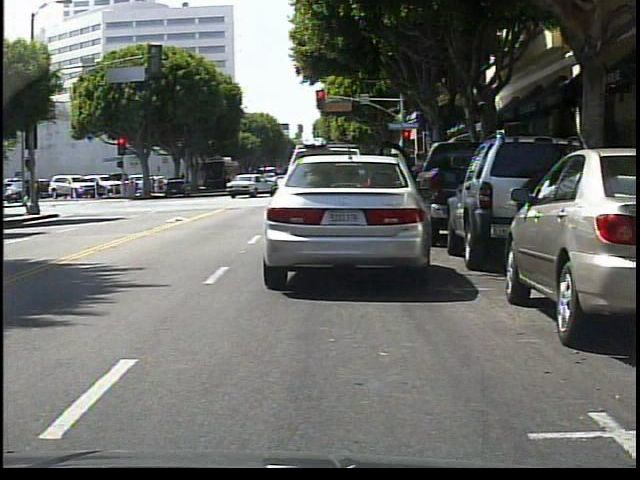person: (24, 181, 49, 219)
